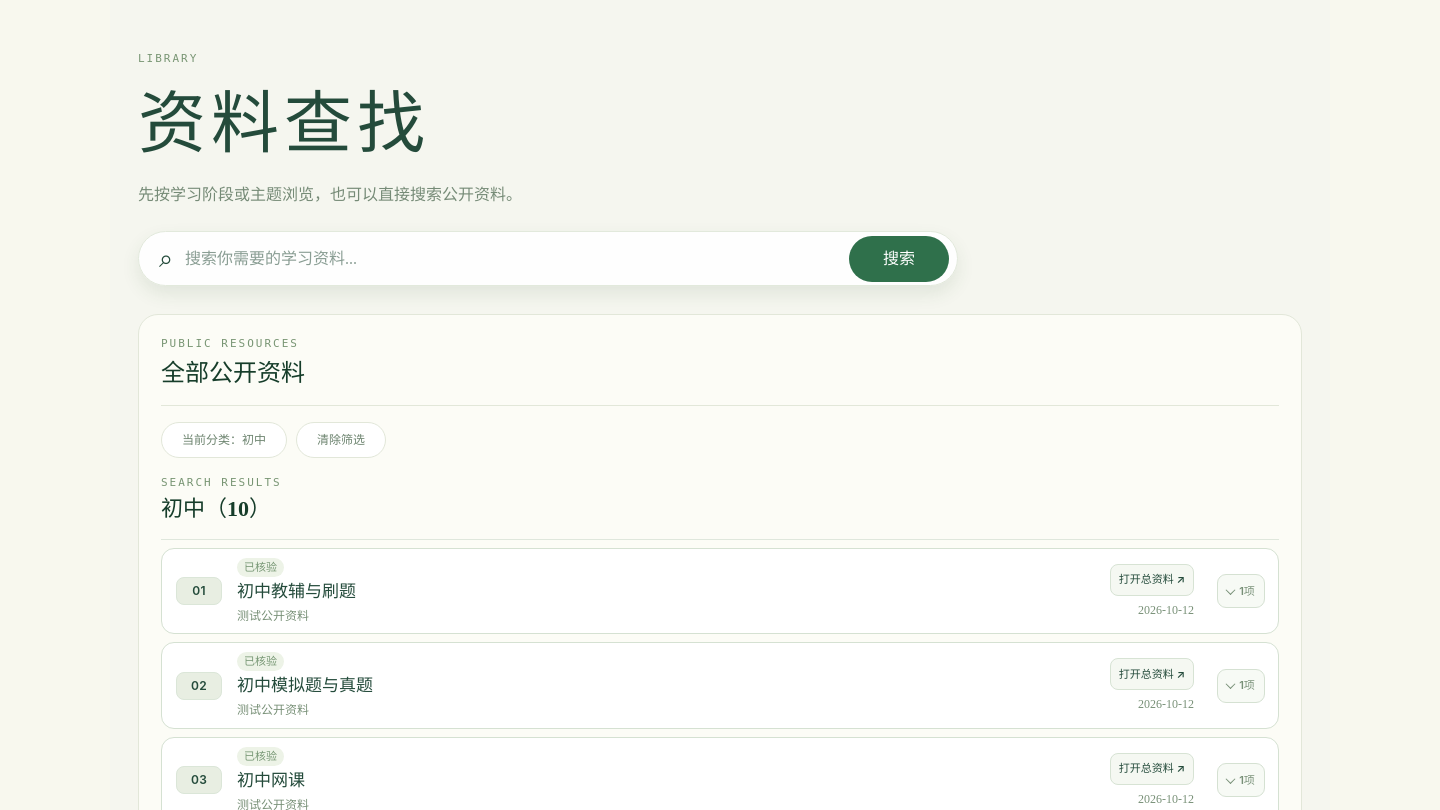
Test: resource category filtering and deep links › groups all five junior secondary branches without changing the category page
Click the button named "展开下级资料（1项）".
click(1241, 591)  # box x1=1217 y1=574 x2=1265 y2=608
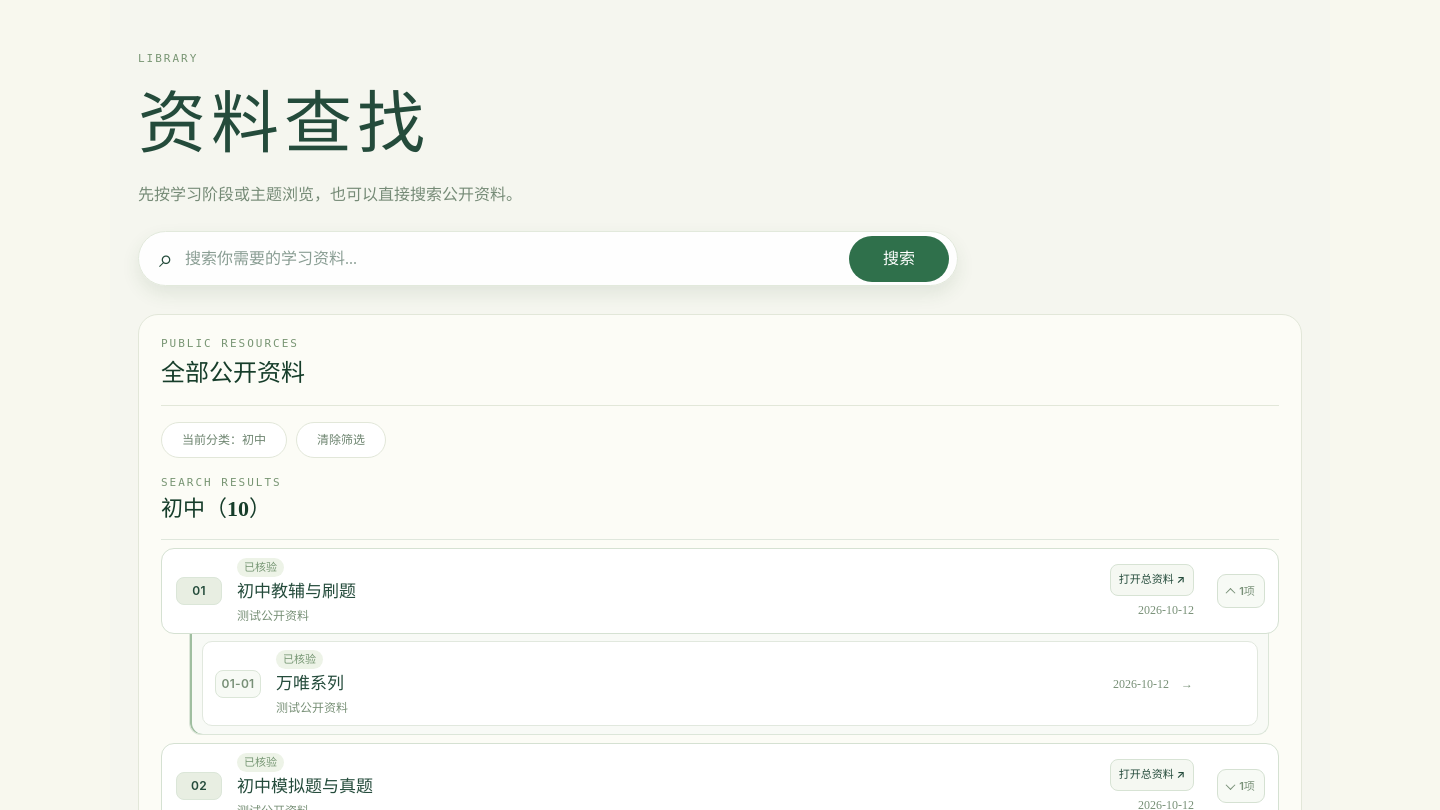
Check: the button "01-01 已核验 万唯系列 测试公开资料 2026-10-12 →" is shown, box x1=202 y1=641 x2=1258 y2=726
Check: the button named "收起下级资料（1项）" is shown, box x1=1217 y1=574 x2=1265 y2=608
